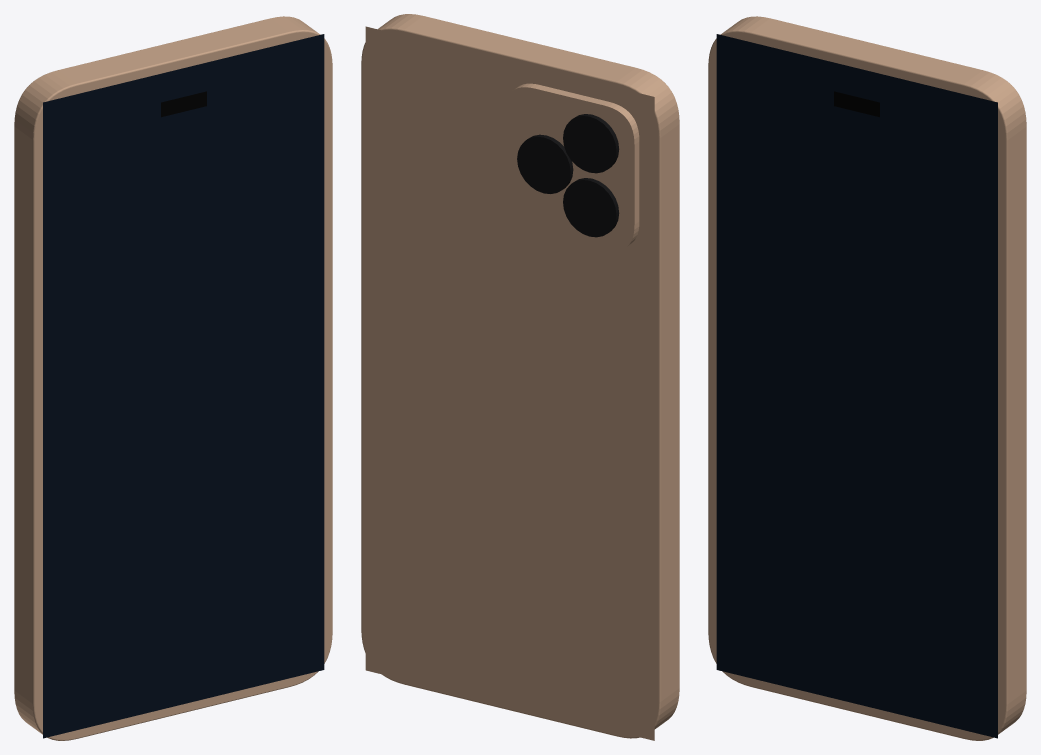
The model's file is iphone-16-pro-max.glb.
The picture shows the model from 3 angles, left to right: view 1: azimuth 30°, elevation 25°; view 2: azimuth 150°, elevation 25°; view 3: azimuth 330°, elevation 25°; orthographic projection.
Bounding box in the file's own units: 0.0784 × 0.1638 × 0.0129.
